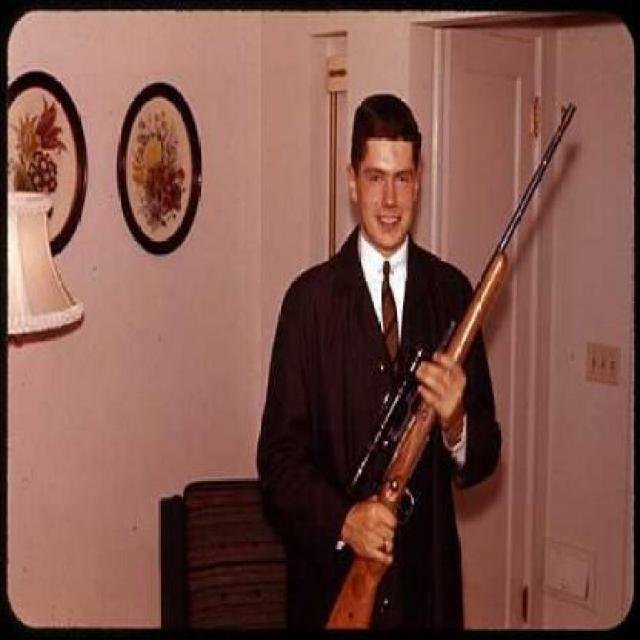weapon: (314, 100, 583, 632)
